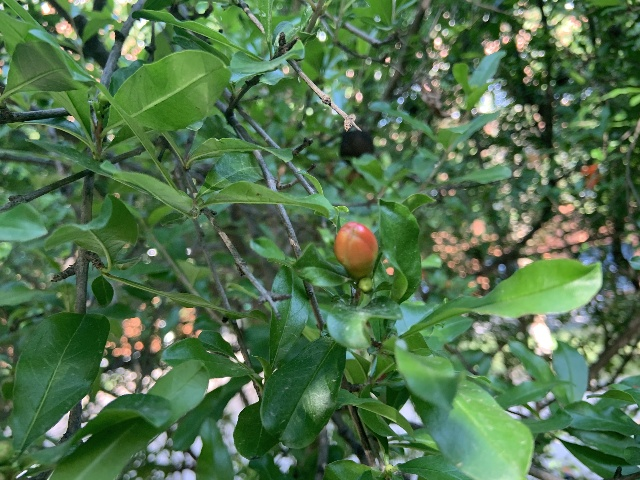bud: (333, 221, 377, 278)
